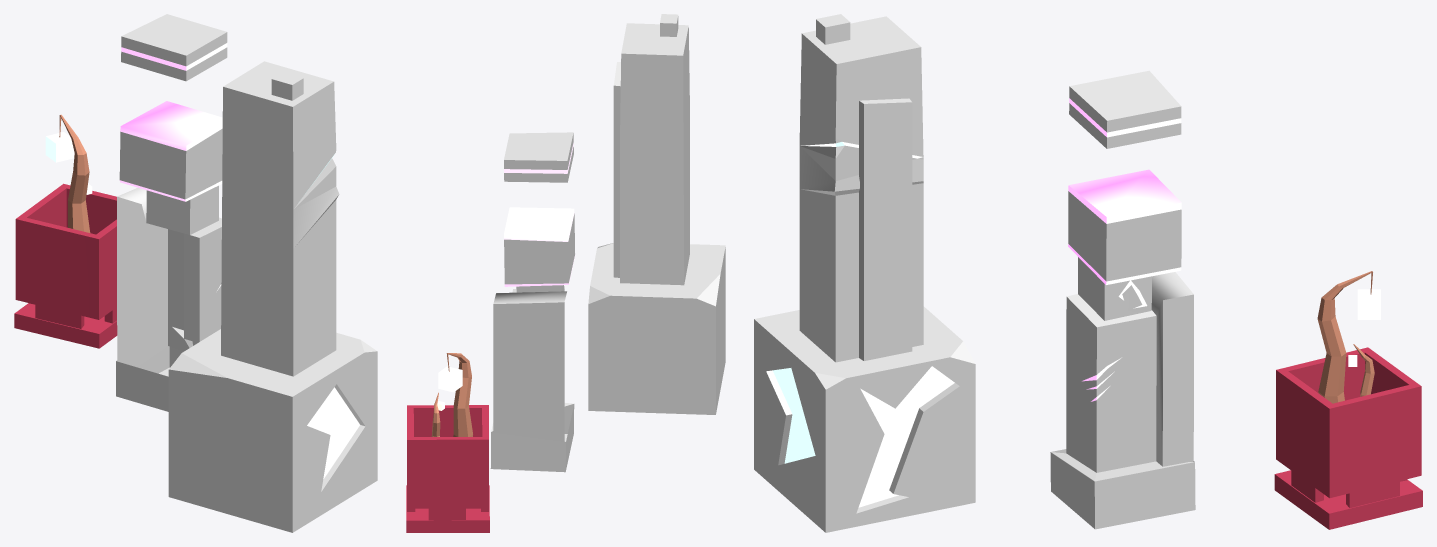
The model's file is cosos.gltf.
3 views of the same model, side by side, from view 1: azimuth 30°, elevation 25°; view 2: azimuth 150°, elevation 25°; view 3: azimuth 270°, elevation 25° (orthographic). The views are drawn at different scales.
Parts seen in each view (by area): view 1: torre, cubo, fff, cubo.001, luz tore1, Cilindro, Cubo; view 2: torre, cubo, fff, cubo.001, Cilindro, Cubo; view 3: torre, cubo, fff, luz tore1, cubo.001, Cilindro.
Boxes of the visible parts, x1=… form: torre: x1=168, y1=61, x2=377, y2=532; cubo: x1=116, y1=14, x2=227, y2=411; fff: x1=14, y1=183, x2=117, y2=348; cubo.001: x1=119, y1=43, x2=227, y2=290; luz tore1: x1=305, y1=154, x2=359, y2=479; Cilindro: x1=59, y1=114, x2=90, y2=232; Cubo: x1=45, y1=132, x2=74, y2=162; torre: x1=588, y1=14, x2=725, y2=414; cubo: x1=490, y1=132, x2=574, y2=472; fff: x1=406, y1=405, x2=489, y2=532; cubo.001: x1=504, y1=143, x2=575, y2=286; Cilindro: x1=446, y1=353, x2=472, y2=436; Cubo: x1=438, y1=366, x2=462, y2=392; torre: x1=754, y1=14, x2=975, y2=532; cubo: x1=1050, y1=70, x2=1195, y2=529; fff: x1=1274, y1=347, x2=1422, y2=529; luz tore1: x1=772, y1=142, x2=954, y2=507; cubo.001: x1=1068, y1=98, x2=1181, y2=401; Cilindro: x1=1317, y1=271, x2=1372, y2=403.
Size of the model in its own units: 1.48 by 3.44 by 4.48.
